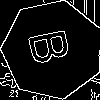B: (27, 25, 80, 67)
